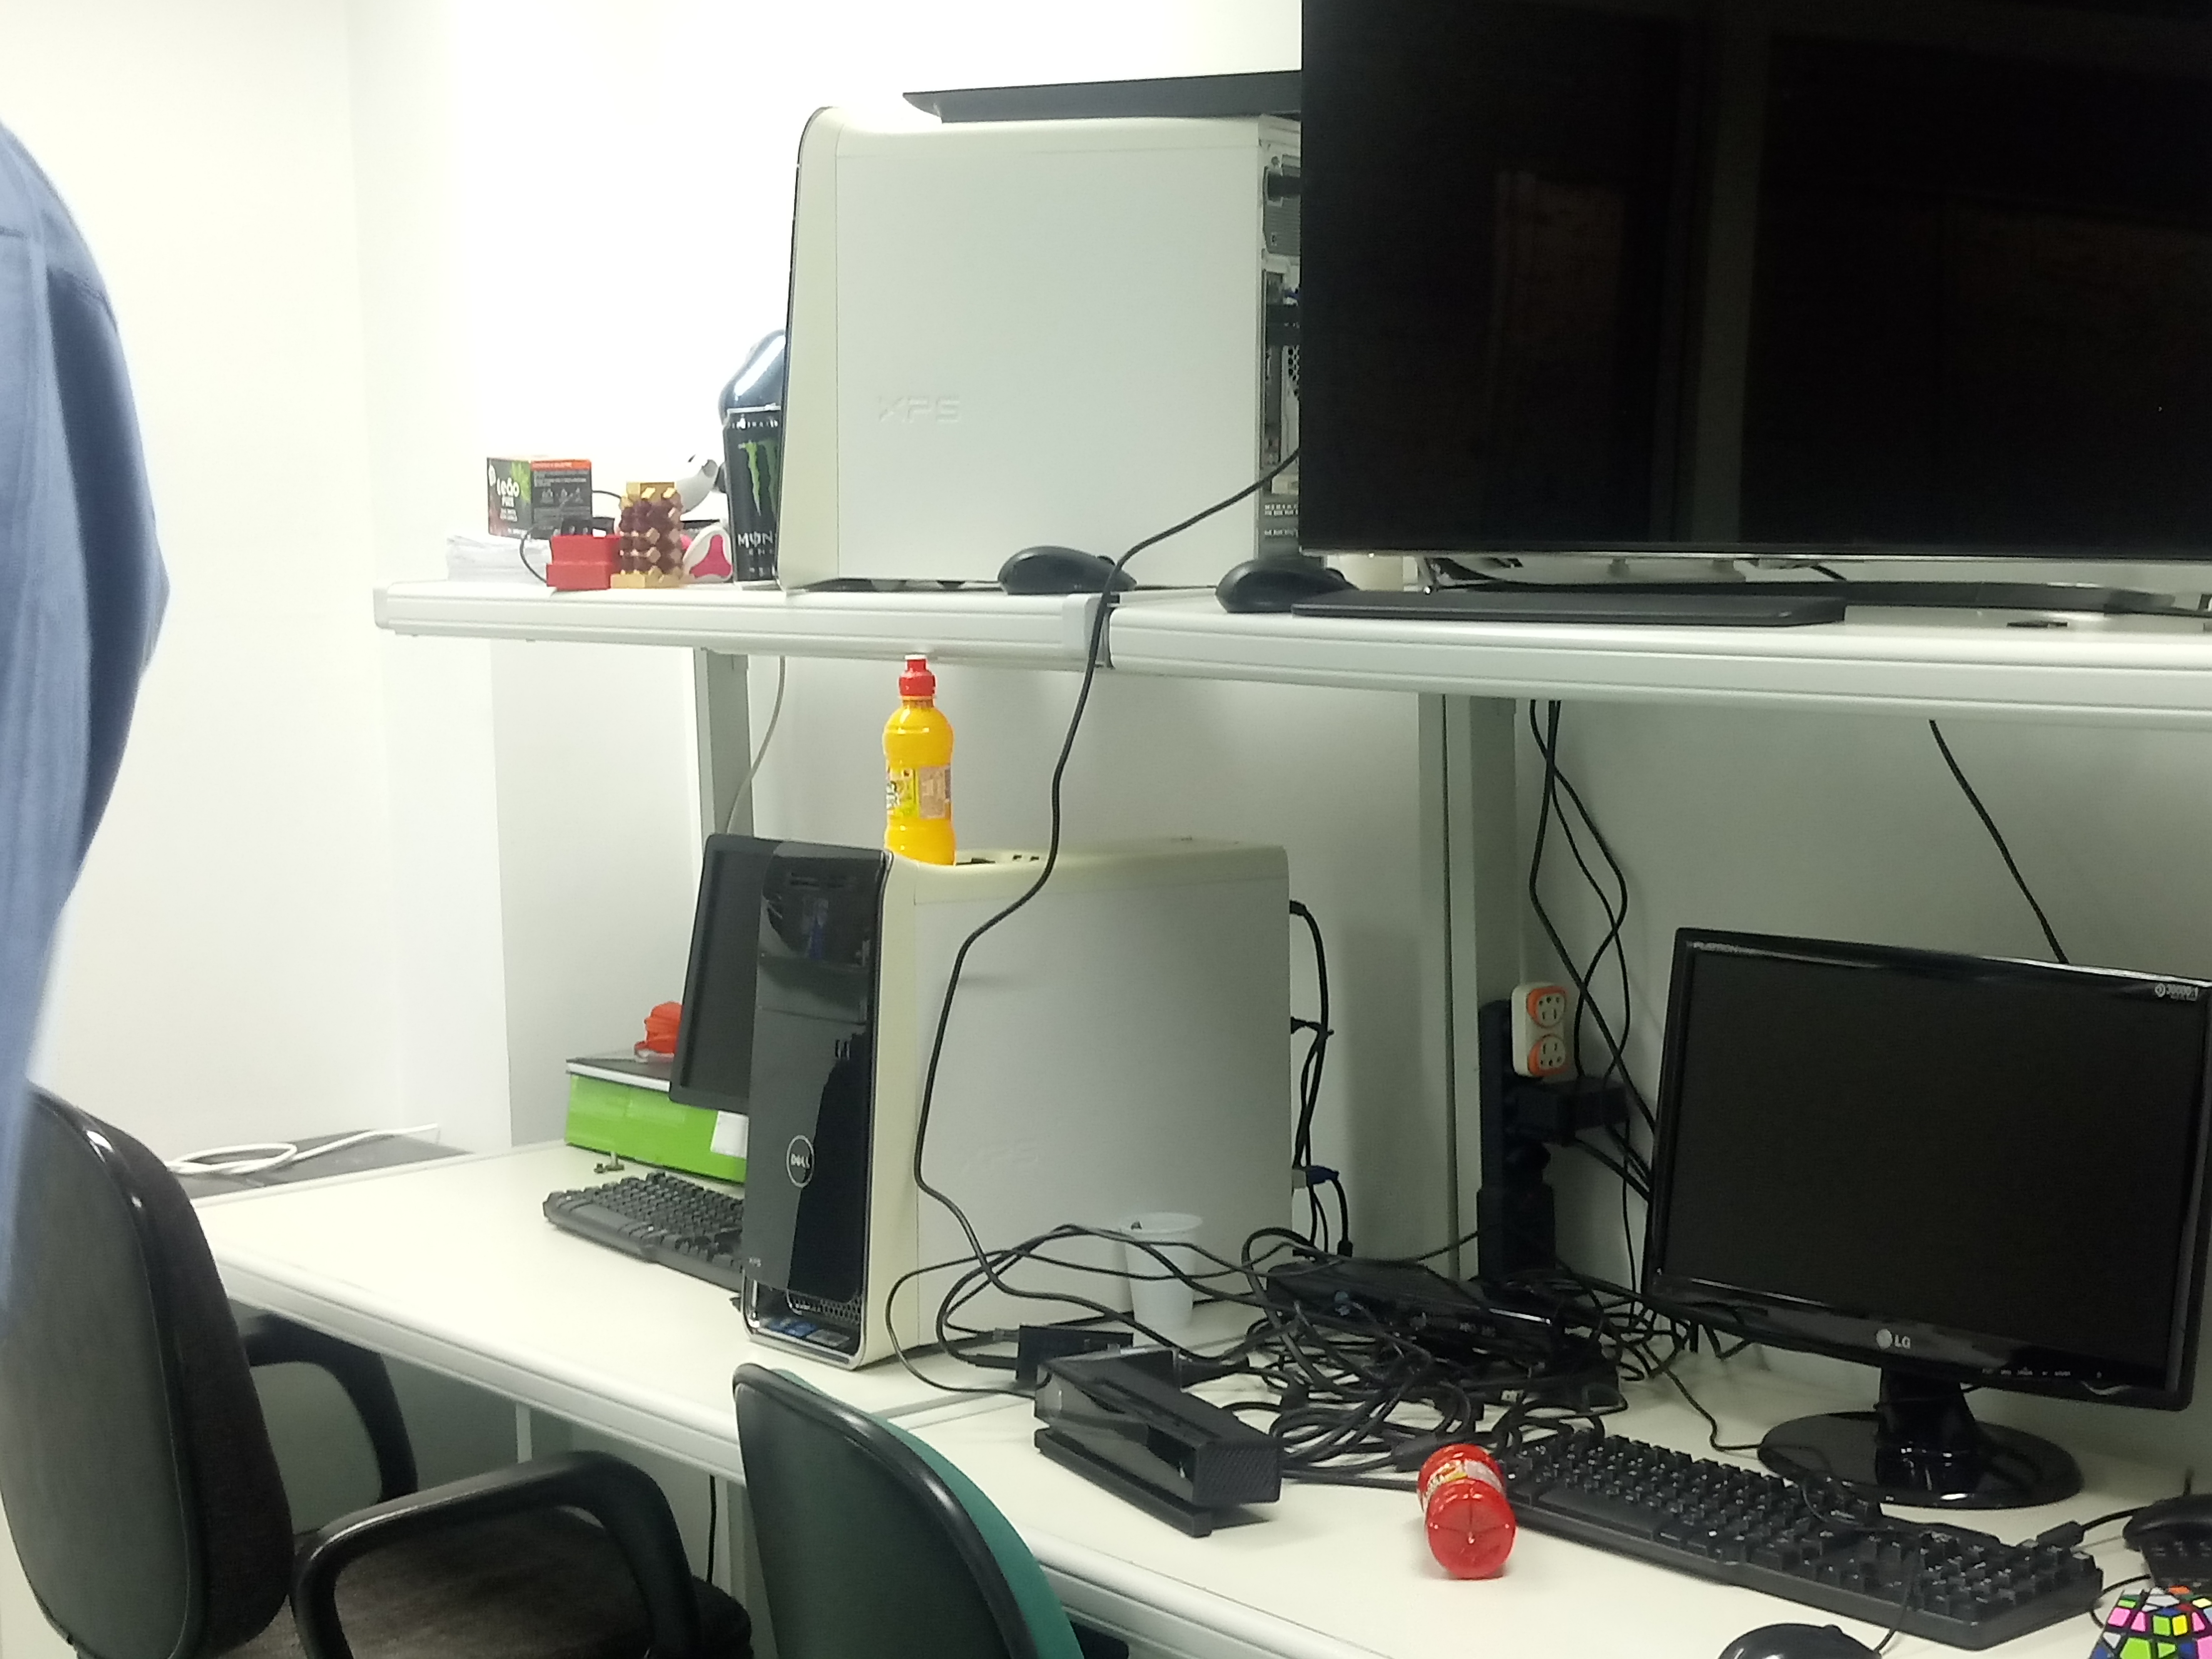monster: (719, 401, 791, 591)
red_juice: (1414, 1429, 1519, 1589)
tea_box: (477, 446, 599, 544)
yellow_juice: (878, 650, 960, 857)
